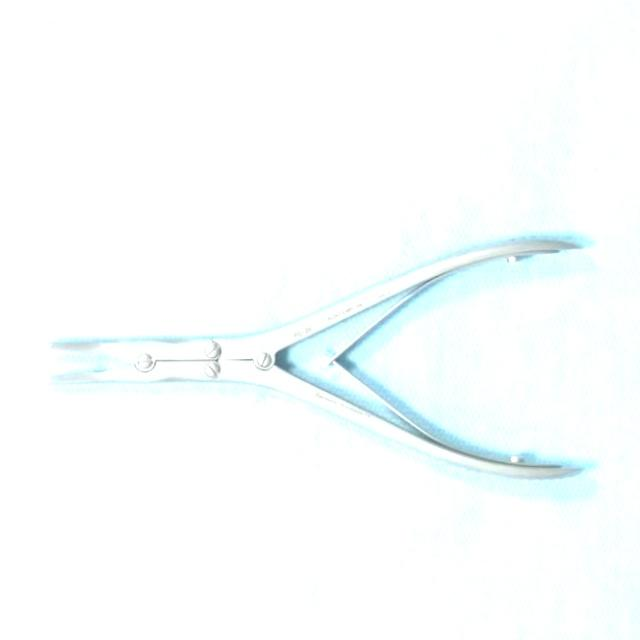gubia: (48, 234, 598, 481)
